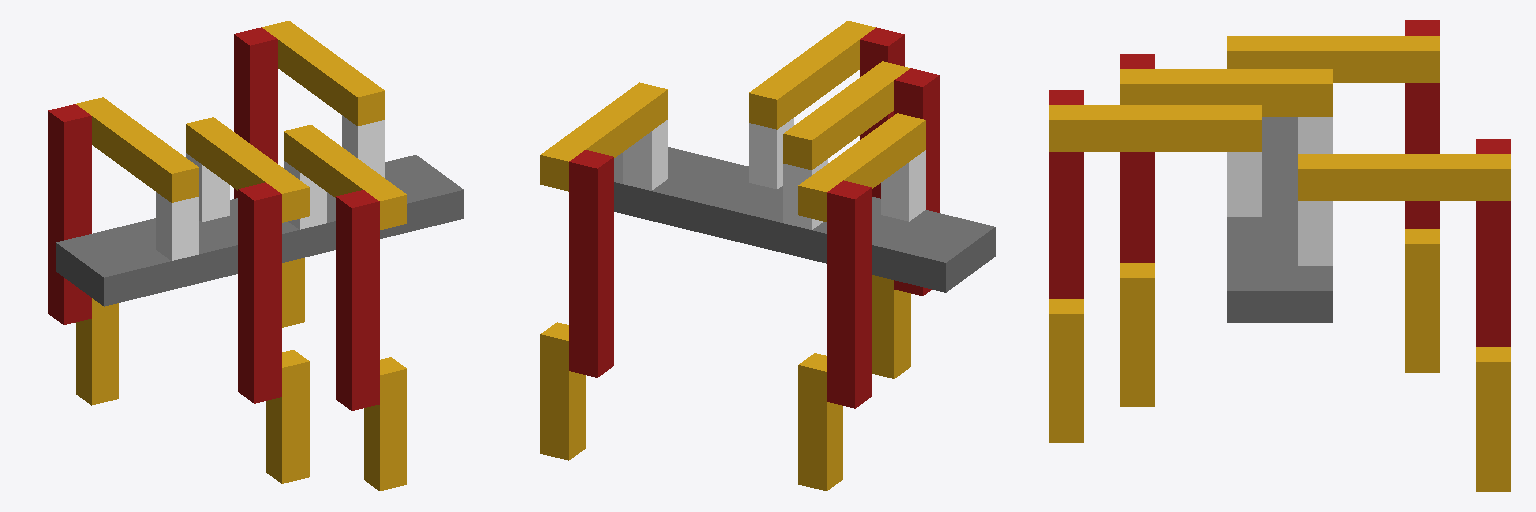
URDF robot description (v0):
<?xml version="1.0" encoding="utf-8"?>
<!-- =================================================================================== -->
<!-- |    This document was autogenerated by xacro from ../robots/v0variants/xacros/v0_4l_21.xacro | -->
<!-- |    EDITING THIS FILE BY HAND IS NOT RECOMMENDED                                 | -->
<!-- =================================================================================== -->
<robot name="v0">
  <material name="grey">
    <color rgba="0.5 0.5 0.5 1"/>
  </material>
  <material name="white">
    <color rgba="1 1 1 1"/>
  </material>
  <material name="yellow">
    <color rgba="0.91 0.7 0.14 1"/>
  </material>
  <material name="red">
    <color rgba="0.71 0.14 0.14 1"/>
  </material>
  <link name="body">
    <visual>
      <geometry>
        <box size="1.3 0.3 0.1"/>
      </geometry>
      <material name="grey"/>
      <origin rpy="0 0 0" xyz="0 0 0.7"/>
    </visual>
    <collision>
      <geometry>
        <box size="1.3 0.3 0.1"/>
      </geometry>
      <origin rpy="0 0 0" xyz="0 0 0.7"/>
    </collision>
    <inertial>
      <mass value="99.84"/>
      <inertia ixx="0.832" ixy="0.0" ixz="0.0" iyy="14.144" iyz="0.0" izz="14.8096"/>
    </inertial>
  </link>
  <link name="l1_segment_1">
    <visual>
      <geometry>
        <box size="0.1 0.1 0.2"/>
      </geometry>
      <material name="white"/>
      <origin rpy="0 0 0" xyz="0 0 0.1"/>
    </visual>
    <collision>
      <geometry>
        <box size="0.1 0.1 0.2"/>
      </geometry>
      <origin rpy="0 0 0" xyz="0 0 0.1"/>
    </collision>
    <inertial>
      <mass value="5.12"/>
      <inertia ixx="0.0213333333333" ixy="0.0" ixz="0.0" iyy="0.0213333333333" iyz="0.0" izz="0.00853333333333"/>
    </inertial>
  </link>
  <joint name="l1_base_to_joint_1" type="fixed">
    <parent link="body"/>
    <child link="l1_segment_1"/>
    <origin rpy="0 0 0" xyz="0.4307340187544141 0.1 0.75"/>
  </joint>
  <link name="l1_segment_2_HIP">
    <visual>
      <geometry>
        <box size="0.1 0.6 0.1"/>
      </geometry>
      <material name="yellow"/>
      <origin rpy="0 0 0" xyz="0 0.25 0"/>
    </visual>
    <collision>
      <geometry>
        <box size="0.1 0.6 0.1"/>
      </geometry>
      <origin rpy="0 0 0" xyz="0 0.25 0"/>
    </collision>
    <inertial>
      <mass value="15.36"/>
      <inertia ixx="0.4736" ixy="0.0" ixz="0.0" iyy="0.0256" iyz="0.0" izz="0.4736"/>
    </inertial>
  </link>
  <joint name="l1_joint_1_to_2" type="revolute">
    <parent link="l1_segment_1"/>
    <child link="l1_segment_2_HIP"/>
    <origin rpy="0 0 0" xyz="0 0 0.25"/>
    <axis xyz="0.0 0.0 1.0"/>
    <limit effort="2048" lower="-1.2" upper="1.2" velocity="20"/>
  </joint>
  <link name="l1_segment_3_THIGH">
    <visual>
      <geometry>
        <box size="0.1 0.1 0.7"/>
      </geometry>
      <material name="red"/>
      <origin rpy="0 0 0" xyz="0 0 -0.3"/>
    </visual>
    <collision>
      <geometry>
        <box size="0.1 0.1 0.7"/>
      </geometry>
      <origin rpy="0 0 0" xyz="0 0 -0.3"/>
    </collision>
    <inertial>
      <mass value="17.92"/>
      <inertia ixx="0.746666666667" ixy="0.0" ixz="0.0" iyy="0.746666666667" iyz="0.0" izz="0.0298666666667"/>
    </inertial>
  </link>
  <joint name="l1_joint_2_to_3" type="revolute">
    <parent link="l1_segment_2_HIP"/>
    <child link="l1_segment_3_THIGH"/>
    <origin rpy="0 0 0" xyz="-0.1 0.5 0"/>
    <axis xyz="1.0 0.0 0.0"/>
    <limit effort="2048" lower="-0.2" upper="0.75" velocity="20"/>
  </joint>
  <link name="l1_segment_4_FOOT">
    <visual>
      <geometry>
        <box size="0.1 0.1 0.4"/>
      </geometry>
      <material name="yellow"/>
      <origin rpy="0 0 0" xyz="0 0 -0.2"/>
    </visual>
    <collision>
      <geometry>
        <box size="0.1 0.1 0.4"/>
      </geometry>
      <origin rpy="0 0 0" xyz="0 0 -0.2"/>
    </collision>
    <inertial>
      <mass value="10.24"/>
      <inertia ixx="0.145066666667" ixy="0.0" ixz="0.0" iyy="0.145066666667" iyz="0.0" izz="0.0170666666667"/>
    </inertial>
  </link>
  <joint name="l1_joint_3_to_4_FOOT" type="revolute">
    <parent link="l1_segment_3_THIGH"/>
    <child link="l1_segment_4_FOOT"/>
    <origin rpy="0 0 0" xyz="0.1 0 -0.55"/>
    <axis xyz="1.0 0.0 0.0"/>
    <limit effort="2048" lower="-0.2" upper="0.5" velocity="20"/>
  </joint>
  <link name="r2_segment_1">
    <visual>
      <geometry>
        <box size="0.1 0.1 0.2"/>
      </geometry>
      <material name="white"/>
      <origin rpy="0 0 0" xyz="0 0 0.1"/>
    </visual>
    <collision>
      <geometry>
        <box size="0.1 0.1 0.2"/>
      </geometry>
      <origin rpy="0 0 0" xyz="0 0 0.1"/>
    </collision>
    <inertial>
      <mass value="5.12"/>
      <inertia ixx="0.0213333333333" ixy="0.0" ixz="0.0" iyy="0.0213333333333" iyz="0.0" izz="0.00853333333333"/>
    </inertial>
  </link>
  <joint name="r2_base_to_joint_1" type="fixed">
    <parent link="body"/>
    <child link="r2_segment_1"/>
    <origin rpy="0 0 0" xyz="-0.13086421671803672 0.1 0.75"/>
  </joint>
  <link name="r2_segment_2_HIP">
    <visual>
      <geometry>
        <box size="0.1 0.6 0.1"/>
      </geometry>
      <material name="yellow"/>
      <origin rpy="0 0 0" xyz="0 -0.25 0"/>
    </visual>
    <collision>
      <geometry>
        <box size="0.1 0.6 0.1"/>
      </geometry>
      <origin rpy="0 0 0" xyz="0 -0.25 0"/>
    </collision>
    <inertial>
      <mass value="15.36"/>
      <inertia ixx="0.4736" ixy="0.0" ixz="0.0" iyy="0.0256" iyz="0.0" izz="0.4736"/>
    </inertial>
  </link>
  <joint name="r2_joint_1_to_2" type="revolute">
    <parent link="r2_segment_1"/>
    <child link="r2_segment_2_HIP"/>
    <origin rpy="0 0 0" xyz="0 0 0.25"/>
    <axis xyz="0.0 0.0 1.0"/>
    <limit effort="2048" lower="-1.2" upper="1.2" velocity="20"/>
  </joint>
  <link name="r2_segment_3_THIGH">
    <visual>
      <geometry>
        <box size="0.1 0.1 0.7"/>
      </geometry>
      <material name="red"/>
      <origin rpy="0 0 0" xyz="0 0 -0.3"/>
    </visual>
    <collision>
      <geometry>
        <box size="0.1 0.1 0.7"/>
      </geometry>
      <origin rpy="0 0 0" xyz="0 0 -0.3"/>
    </collision>
    <inertial>
      <mass value="17.92"/>
      <inertia ixx="0.746666666667" ixy="0.0" ixz="0.0" iyy="0.746666666667" iyz="0.0" izz="0.0298666666667"/>
    </inertial>
  </link>
  <joint name="r2_joint_2_to_3" type="revolute">
    <parent link="r2_segment_2_HIP"/>
    <child link="r2_segment_3_THIGH"/>
    <origin rpy="0 0 0" xyz="-0.1 -0.5 0"/>
    <axis xyz="1.0 0.0 0.0"/>
    <limit effort="2048" lower="-0.75" upper="0.2" velocity="20"/>
  </joint>
  <link name="r2_segment_4_FOOT">
    <visual>
      <geometry>
        <box size="0.1 0.1 0.4"/>
      </geometry>
      <material name="yellow"/>
      <origin rpy="0 0 0" xyz="0 0 -0.2"/>
    </visual>
    <collision>
      <geometry>
        <box size="0.1 0.1 0.4"/>
      </geometry>
      <origin rpy="0 0 0" xyz="0 0 -0.2"/>
    </collision>
    <inertial>
      <mass value="10.24"/>
      <inertia ixx="0.145066666667" ixy="0.0" ixz="0.0" iyy="0.145066666667" iyz="0.0" izz="0.0170666666667"/>
    </inertial>
  </link>
  <joint name="r2_joint_3_to_4_FOOT" type="revolute">
    <parent link="r2_segment_3_THIGH"/>
    <child link="r2_segment_4_FOOT"/>
    <origin rpy="0 0 0" xyz="0.1 0 -0.55"/>
    <axis xyz="1.0 0.0 0.0"/>
    <limit effort="2048" lower="-0.5" upper="0.2" velocity="20"/>
  </joint>
  <link name="l3_segment_1">
    <visual>
      <geometry>
        <box size="0.1 0.1 0.2"/>
      </geometry>
      <material name="white"/>
      <origin rpy="0 0 0" xyz="0 0 0.1"/>
    </visual>
    <collision>
      <geometry>
        <box size="0.1 0.1 0.2"/>
      </geometry>
      <origin rpy="0 0 0" xyz="0 0 0.1"/>
    </collision>
    <inertial>
      <mass value="5.12"/>
      <inertia ixx="0.0213333333333" ixy="0.0" ixz="0.0" iyy="0.0213333333333" iyz="0.0" izz="0.00853333333333"/>
    </inertial>
  </link>
  <joint name="l3_base_to_joint_1" type="fixed">
    <parent link="body"/>
    <child link="l3_segment_1"/>
    <origin rpy="0 0 0" xyz="-0.35598906704535777 -0.1 0.75"/>
  </joint>
  <link name="l3_segment_2_HIP">
    <visual>
      <geometry>
        <box size="0.1 0.6 0.1"/>
      </geometry>
      <material name="yellow"/>
      <origin rpy="0 0 0" xyz="0 0.25 0"/>
    </visual>
    <collision>
      <geometry>
        <box size="0.1 0.6 0.1"/>
      </geometry>
      <origin rpy="0 0 0" xyz="0 0.25 0"/>
    </collision>
    <inertial>
      <mass value="15.36"/>
      <inertia ixx="0.4736" ixy="0.0" ixz="0.0" iyy="0.0256" iyz="0.0" izz="0.4736"/>
    </inertial>
  </link>
  <joint name="l3_joint_1_to_2" type="revolute">
    <parent link="l3_segment_1"/>
    <child link="l3_segment_2_HIP"/>
    <origin rpy="0 0 0" xyz="0 0 0.25"/>
    <axis xyz="0.0 0.0 1.0"/>
    <limit effort="2048" lower="-1.2" upper="1.2" velocity="20"/>
  </joint>
  <link name="l3_segment_3_THIGH">
    <visual>
      <geometry>
        <box size="0.1 0.1 0.7"/>
      </geometry>
      <material name="red"/>
      <origin rpy="0 0 0" xyz="0 0 -0.3"/>
    </visual>
    <collision>
      <geometry>
        <box size="0.1 0.1 0.7"/>
      </geometry>
      <origin rpy="0 0 0" xyz="0 0 -0.3"/>
    </collision>
    <inertial>
      <mass value="17.92"/>
      <inertia ixx="0.746666666667" ixy="0.0" ixz="0.0" iyy="0.746666666667" iyz="0.0" izz="0.0298666666667"/>
    </inertial>
  </link>
  <joint name="l3_joint_2_to_3" type="revolute">
    <parent link="l3_segment_2_HIP"/>
    <child link="l3_segment_3_THIGH"/>
    <origin rpy="0 0 0" xyz="-0.1 0.5 0"/>
    <axis xyz="1.0 0.0 0.0"/>
    <limit effort="2048" lower="-0.2" upper="0.75" velocity="20"/>
  </joint>
  <link name="l3_segment_4_FOOT">
    <visual>
      <geometry>
        <box size="0.1 0.1 0.4"/>
      </geometry>
      <material name="yellow"/>
      <origin rpy="0 0 0" xyz="0 0 -0.2"/>
    </visual>
    <collision>
      <geometry>
        <box size="0.1 0.1 0.4"/>
      </geometry>
      <origin rpy="0 0 0" xyz="0 0 -0.2"/>
    </collision>
    <inertial>
      <mass value="10.24"/>
      <inertia ixx="0.145066666667" ixy="0.0" ixz="0.0" iyy="0.145066666667" iyz="0.0" izz="0.0170666666667"/>
    </inertial>
  </link>
  <joint name="l3_joint_3_to_4_FOOT" type="revolute">
    <parent link="l3_segment_3_THIGH"/>
    <child link="l3_segment_4_FOOT"/>
    <origin rpy="0 0 0" xyz="0.1 0 -0.55"/>
    <axis xyz="1.0 0.0 0.0"/>
    <limit effort="2048" lower="-0.2" upper="0.5" velocity="20"/>
  </joint>
  <link name="r4_segment_1">
    <visual>
      <geometry>
        <box size="0.1 0.1 0.2"/>
      </geometry>
      <material name="white"/>
      <origin rpy="0 0 0" xyz="0 0 0.1"/>
    </visual>
    <collision>
      <geometry>
        <box size="0.1 0.1 0.2"/>
      </geometry>
      <origin rpy="0 0 0" xyz="0 0 0.1"/>
    </collision>
    <inertial>
      <mass value="5.12"/>
      <inertia ixx="0.0213333333333" ixy="0.0" ixz="0.0" iyy="0.0213333333333" iyz="0.0" izz="0.00853333333333"/>
    </inertial>
  </link>
  <joint name="r4_base_to_joint_1" type="fixed">
    <parent link="body"/>
    <child link="r4_segment_1"/>
    <origin rpy="0 0 0" xyz="0.10594327321387953 -0.1 0.75"/>
  </joint>
  <link name="r4_segment_2_HIP">
    <visual>
      <geometry>
        <box size="0.1 0.6 0.1"/>
      </geometry>
      <material name="yellow"/>
      <origin rpy="0 0 0" xyz="0 -0.25 0"/>
    </visual>
    <collision>
      <geometry>
        <box size="0.1 0.6 0.1"/>
      </geometry>
      <origin rpy="0 0 0" xyz="0 -0.25 0"/>
    </collision>
    <inertial>
      <mass value="15.36"/>
      <inertia ixx="0.4736" ixy="0.0" ixz="0.0" iyy="0.0256" iyz="0.0" izz="0.4736"/>
    </inertial>
  </link>
  <joint name="r4_joint_1_to_2" type="revolute">
    <parent link="r4_segment_1"/>
    <child link="r4_segment_2_HIP"/>
    <origin rpy="0 0 0" xyz="0 0 0.25"/>
    <axis xyz="0.0 0.0 1.0"/>
    <limit effort="2048" lower="-1.2" upper="1.2" velocity="20"/>
  </joint>
  <link name="r4_segment_3_THIGH">
    <visual>
      <geometry>
        <box size="0.1 0.1 0.7"/>
      </geometry>
      <material name="red"/>
      <origin rpy="0 0 0" xyz="0 0 -0.3"/>
    </visual>
    <collision>
      <geometry>
        <box size="0.1 0.1 0.7"/>
      </geometry>
      <origin rpy="0 0 0" xyz="0 0 -0.3"/>
    </collision>
    <inertial>
      <mass value="17.92"/>
      <inertia ixx="0.746666666667" ixy="0.0" ixz="0.0" iyy="0.746666666667" iyz="0.0" izz="0.0298666666667"/>
    </inertial>
  </link>
  <joint name="r4_joint_2_to_3" type="revolute">
    <parent link="r4_segment_2_HIP"/>
    <child link="r4_segment_3_THIGH"/>
    <origin rpy="0 0 0" xyz="-0.1 -0.5 0"/>
    <axis xyz="1.0 0.0 0.0"/>
    <limit effort="2048" lower="-0.75" upper="0.2" velocity="20"/>
  </joint>
  <link name="r4_segment_4_FOOT">
    <visual>
      <geometry>
        <box size="0.1 0.1 0.4"/>
      </geometry>
      <material name="yellow"/>
      <origin rpy="0 0 0" xyz="0 0 -0.2"/>
    </visual>
    <collision>
      <geometry>
        <box size="0.1 0.1 0.4"/>
      </geometry>
      <origin rpy="0 0 0" xyz="0 0 -0.2"/>
    </collision>
    <inertial>
      <mass value="10.24"/>
      <inertia ixx="0.145066666667" ixy="0.0" ixz="0.0" iyy="0.145066666667" iyz="0.0" izz="0.0170666666667"/>
    </inertial>
  </link>
  <joint name="r4_joint_3_to_4_FOOT" type="revolute">
    <parent link="r4_segment_3_THIGH"/>
    <child link="r4_segment_4_FOOT"/>
    <origin rpy="0 0 0" xyz="0.1 0 -0.55"/>
    <axis xyz="1.0 0.0 0.0"/>
    <limit effort="2048" lower="-0.5" upper="0.2" velocity="20"/>
  </joint>
</robot>

--- What the picture shows (computed from the rendered views, not written in the file) ---
The picture shows the robot from 3 angles, left to right: view 1: azimuth 30°, elevation 25°; view 2: azimuth 150°, elevation 25°; view 3: azimuth 270°, elevation 25°; orthographic projection.
Model v0 with 17 links and 16 joints (12 revolute, 4 fixed), rooted at body, posed all joints at 0.
Links seen in each view (by area): view 1: body, r4_segment_3_THIGH, r2_segment_3_THIGH, l3_segment_3_THIGH, l3_segment_2_HIP, l1_segment_2_HIP, r2_segment_2_HIP, r4_segment_2_HIP, l1_segment_3_THIGH, r2_segment_4_FOOT, r4_segment_4_FOOT, l3_segment_4_FOOT (+5 smaller); view 2: body, l3_segment_3_THIGH, l1_segment_3_THIGH, r4_segment_2_HIP, r2_segment_2_HIP, l3_segment_2_HIP, l1_segment_2_HIP, l1_segment_4_FOOT, l3_segment_4_FOOT, r2_segment_3_THIGH, r2_segment_4_FOOT, l3_segment_1 (+4 smaller); view 3: body, l1_segment_2_HIP, r4_segment_2_HIP, l3_segment_2_HIP, r2_segment_2_HIP, r4_segment_3_THIGH, l1_segment_3_THIGH, l1_segment_4_FOOT, r2_segment_4_FOOT, l3_segment_4_FOOT, r4_segment_4_FOOT, r2_segment_3_THIGH (+4 smaller).
Link boxes in pixels (bbox=[...]): body: bbox=[56, 155, 463, 306]; r4_segment_3_THIGH: bbox=[336, 190, 379, 410]; r2_segment_3_THIGH: bbox=[238, 182, 281, 403]; l3_segment_3_THIGH: bbox=[48, 104, 91, 324]; l3_segment_2_HIP: bbox=[76, 97, 198, 202]; l1_segment_2_HIP: bbox=[262, 21, 384, 125]; r2_segment_2_HIP: bbox=[186, 117, 309, 222]; r4_segment_2_HIP: bbox=[284, 125, 406, 229]; l1_segment_3_THIGH: bbox=[234, 27, 277, 198]; r2_segment_4_FOOT: bbox=[266, 350, 309, 483]; r4_segment_4_FOOT: bbox=[364, 357, 406, 490]; l3_segment_4_FOOT: bbox=[76, 298, 118, 405]; body: bbox=[614, 147, 995, 292]; l3_segment_3_THIGH: bbox=[827, 180, 871, 408]; l1_segment_3_THIGH: bbox=[569, 150, 613, 377]; r4_segment_2_HIP: bbox=[749, 21, 875, 129]; r2_segment_2_HIP: bbox=[783, 61, 909, 169]; l3_segment_2_HIP: bbox=[798, 113, 925, 221]; l1_segment_2_HIP: bbox=[540, 82, 667, 191]; l1_segment_4_FOOT: bbox=[540, 322, 585, 460]; l3_segment_4_FOOT: bbox=[798, 353, 842, 490]; r2_segment_3_THIGH: bbox=[894, 68, 939, 295]; r2_segment_4_FOOT: bbox=[872, 275, 910, 378]; l3_segment_1: bbox=[881, 150, 925, 221]; body: bbox=[1227, 117, 1332, 322]; l1_segment_2_HIP: bbox=[1298, 154, 1510, 200]; r4_segment_2_HIP: bbox=[1049, 105, 1261, 151]; l3_segment_2_HIP: bbox=[1227, 36, 1439, 82]; r2_segment_2_HIP: bbox=[1120, 69, 1332, 116]; r4_segment_3_THIGH: bbox=[1049, 90, 1083, 298]; l1_segment_3_THIGH: bbox=[1476, 139, 1510, 346]; l1_segment_4_FOOT: bbox=[1476, 347, 1510, 491]; r2_segment_4_FOOT: bbox=[1120, 263, 1154, 406]; l3_segment_4_FOOT: bbox=[1405, 229, 1439, 372]; r4_segment_4_FOOT: bbox=[1049, 299, 1083, 442]; r2_segment_3_THIGH: bbox=[1120, 54, 1154, 262].
Size in the robot's own frame: 1.3 by 1.3 by 1 metres.
Geometry: primitives only (box / cylinder / sphere), no mesh files.